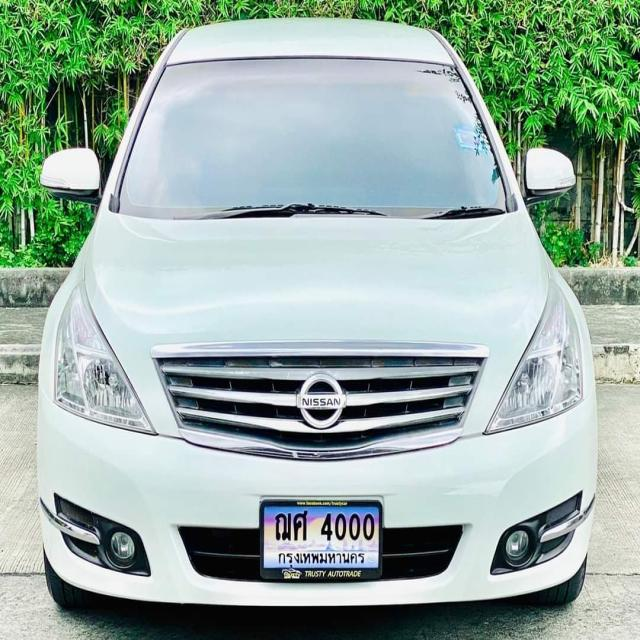license_plate: (258, 499, 385, 582)
